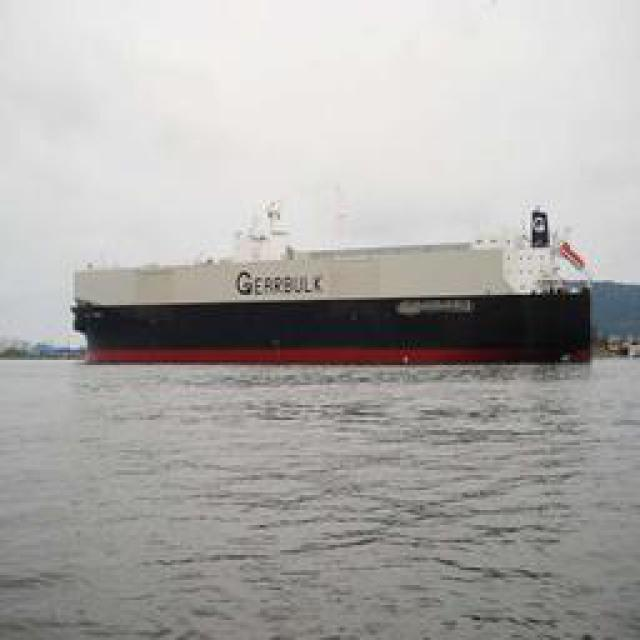Ship: (89, 196, 599, 369)
